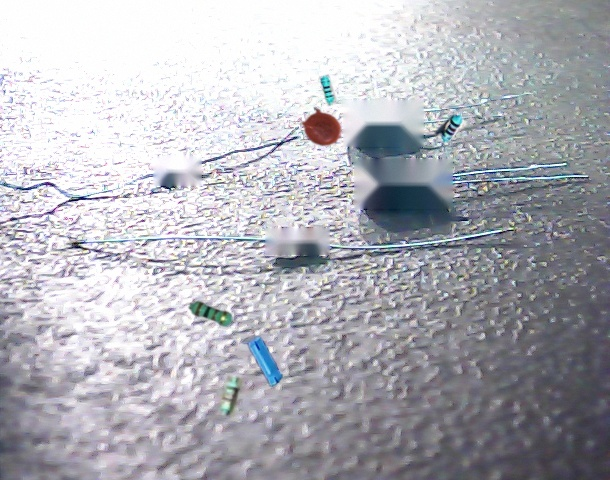capacitor: (243, 336, 283, 387), (302, 107, 341, 146)
resistor: (189, 300, 233, 327), (218, 375, 243, 417), (435, 112, 467, 144), (320, 75, 337, 106)
